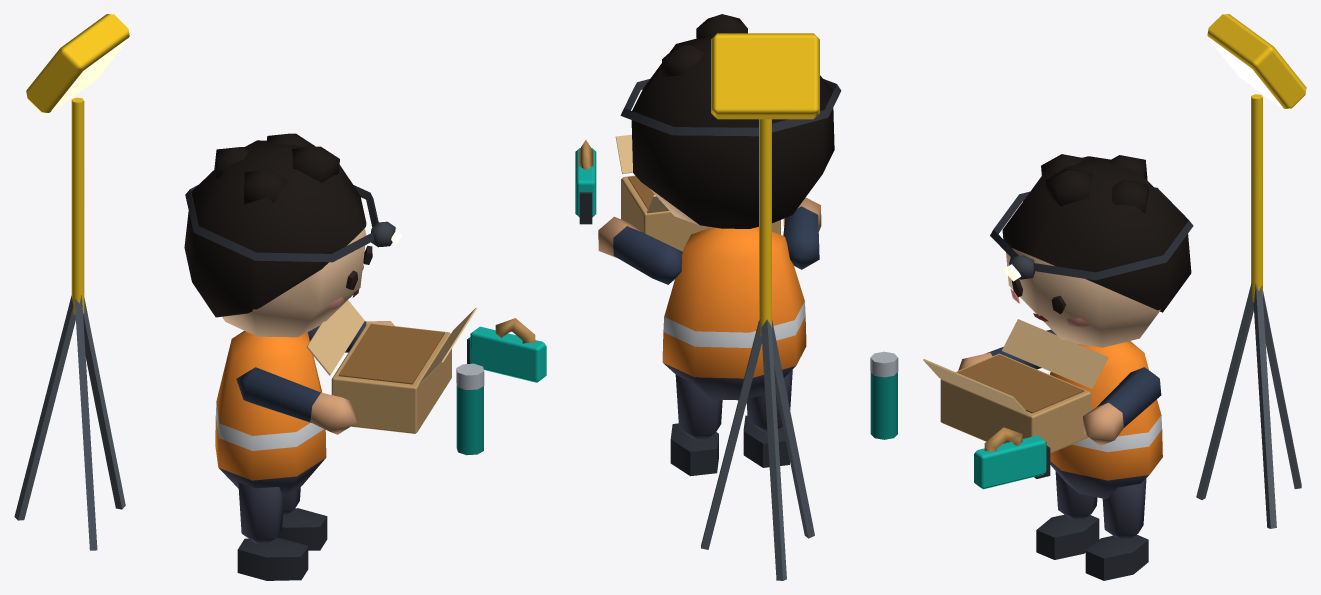
Rendered from station_processing_ausstattung_3_3.glb.
3 views of the same model, side by side, from view 1: azimuth 30°, elevation 25°; view 2: azimuth 150°, elevation 25°; view 3: azimuth 270°, elevation 25° (orthographic). The views are drawn at different scales.
Parts seen in each view (by area): view 1: station_processing_ausstattung_3_3; view 2: station_processing_ausstattung_3_3; view 3: station_processing_ausstattung_3_3.
Boxes of the visible parts, x1,y1,x2,y2 form: station_processing_ausstattung_3_3: (14, 14, 546, 580); station_processing_ausstattung_3_3: (575, 14, 841, 580); station_processing_ausstattung_3_3: (870, 14, 1306, 580).
Bounding box in the file's own units: 1.08 × 1.36 × 1.13.
